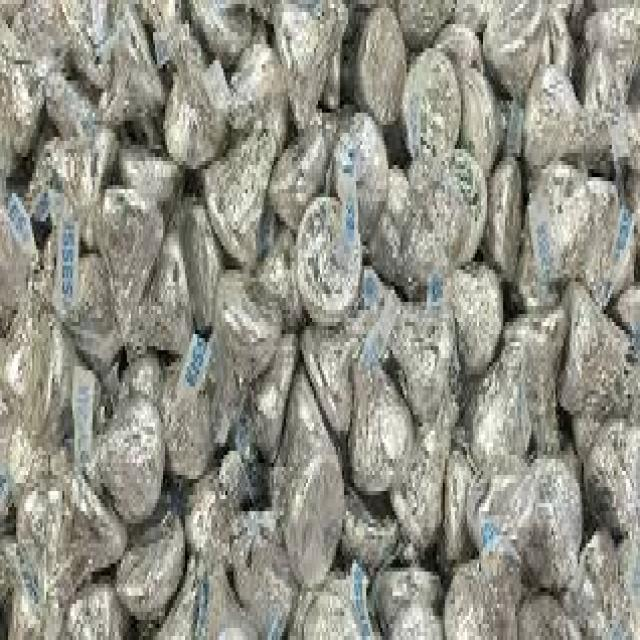kisses: (202, 114, 292, 269), (349, 325, 419, 514), (95, 185, 166, 368), (82, 404, 174, 536), (210, 279, 283, 435), (24, 293, 92, 459), (468, 446, 537, 606), (224, 484, 294, 640), (552, 283, 624, 425), (274, 0, 354, 127), (297, 184, 363, 332), (165, 26, 231, 168), (520, 438, 582, 583), (100, 11, 173, 131), (478, 3, 566, 99), (121, 505, 187, 630), (276, 463, 343, 583), (404, 55, 472, 166), (533, 170, 590, 302), (439, 254, 506, 364), (427, 145, 489, 260), (517, 66, 591, 162), (165, 356, 217, 481), (7, 513, 56, 640), (362, 11, 410, 133), (374, 563, 446, 640), (68, 551, 123, 640)
